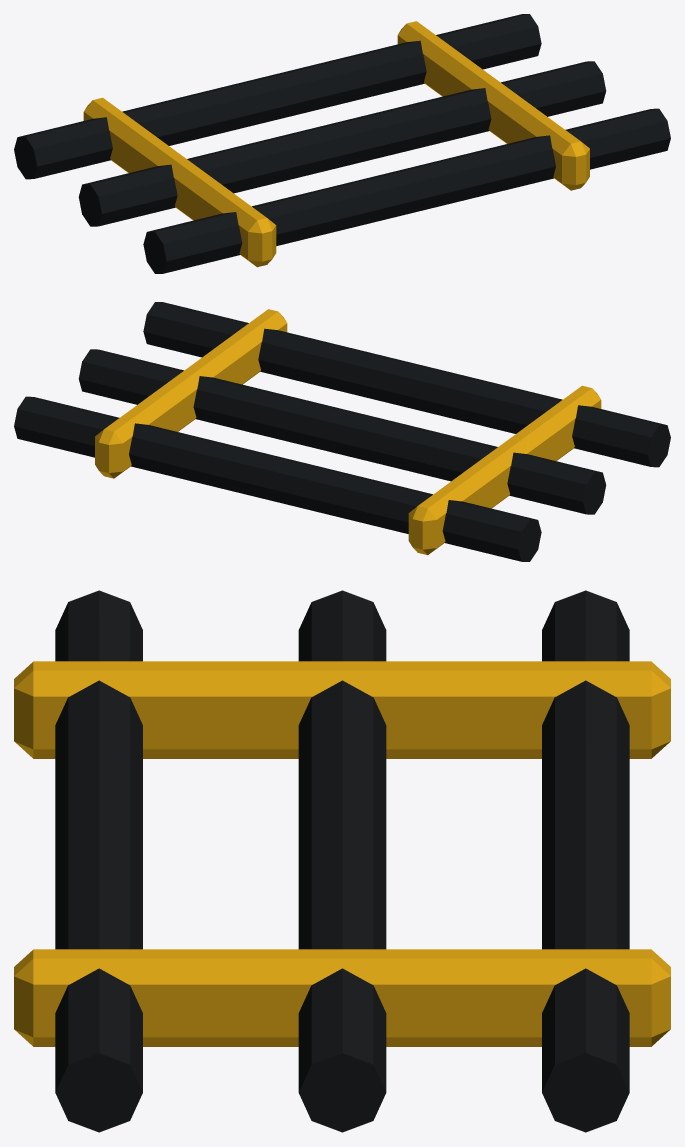
Rendered from CableBundle.fbx.
The picture shows the model from 3 angles, top to bottom: view 1: azimuth 30°, elevation 25°; view 2: azimuth 150°, elevation 25°; view 3: azimuth 270°, elevation 25°; orthographic projection. The views are drawn at different scales.
Parts seen in each view (by area): view 1: CableBundle; view 2: CableBundle; view 3: CableBundle.
Boxes of the visible parts, x1,y1,x2,y2 form: CableBundle: (14, 14, 670, 273); CableBundle: (14, 302, 670, 561); CableBundle: (14, 590, 670, 1132).
Bounding box in the file's own units: 45 × 4 × 27.
Materials: 1 (1 with a texture image).
